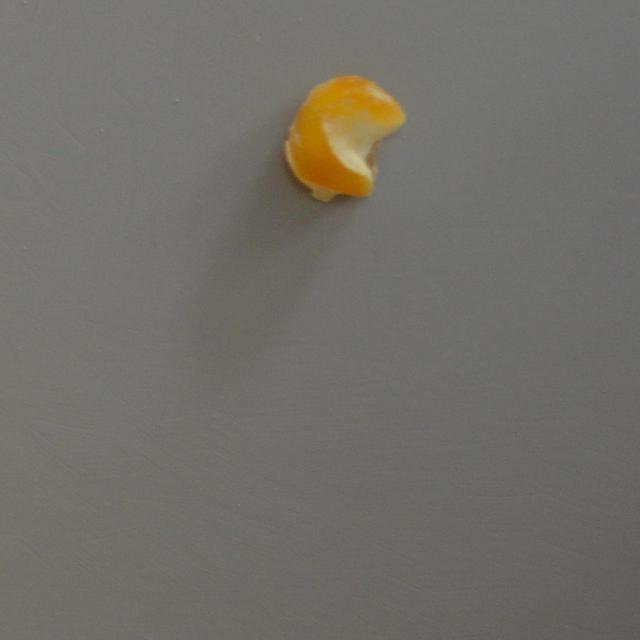pelicula: (282, 74, 406, 202)
